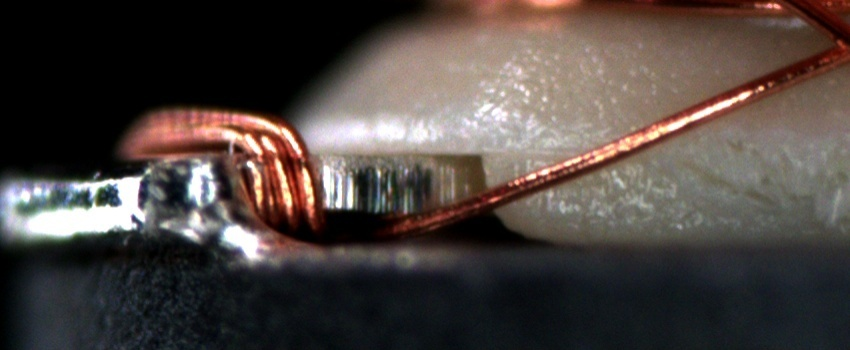CL: (801, 14, 849, 74)
DL: (480, 129, 620, 178)
TE: (126, 100, 325, 237)
